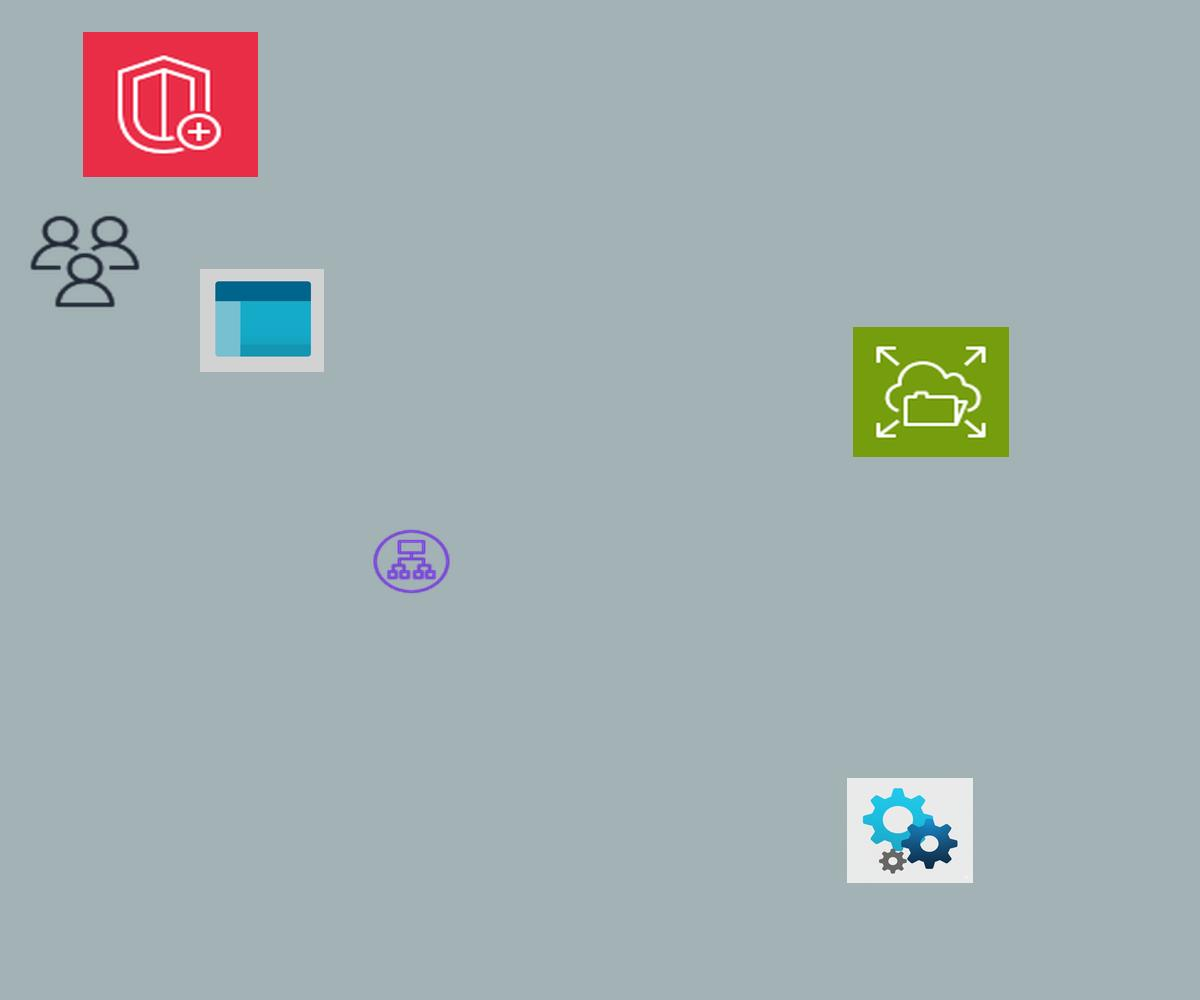AWS-EFS: (853, 327, 1009, 457)
AWS-Res_Elastic-Load-Balancing_Application-Load-Balancer: (370, 527, 453, 596)
AWS-Res_Users: (26, 212, 144, 311)
AWS-Shield: (83, 32, 258, 177)
Azure_api: (847, 778, 973, 883)
Azure_management-portal: (200, 269, 324, 372)
